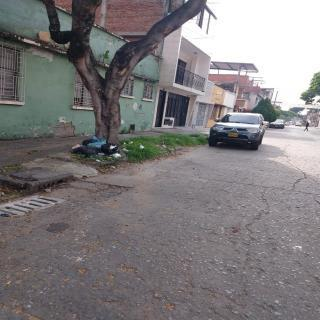Garbage: (76, 145, 100, 155), (101, 143, 119, 155), (82, 137, 99, 145)
